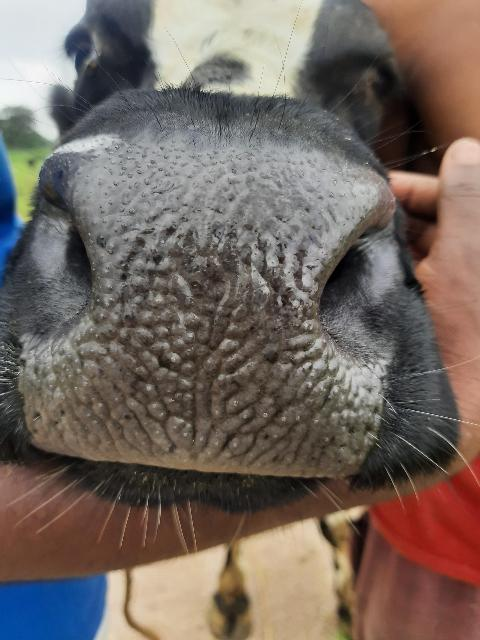Muzzle: (65, 142, 349, 472)
